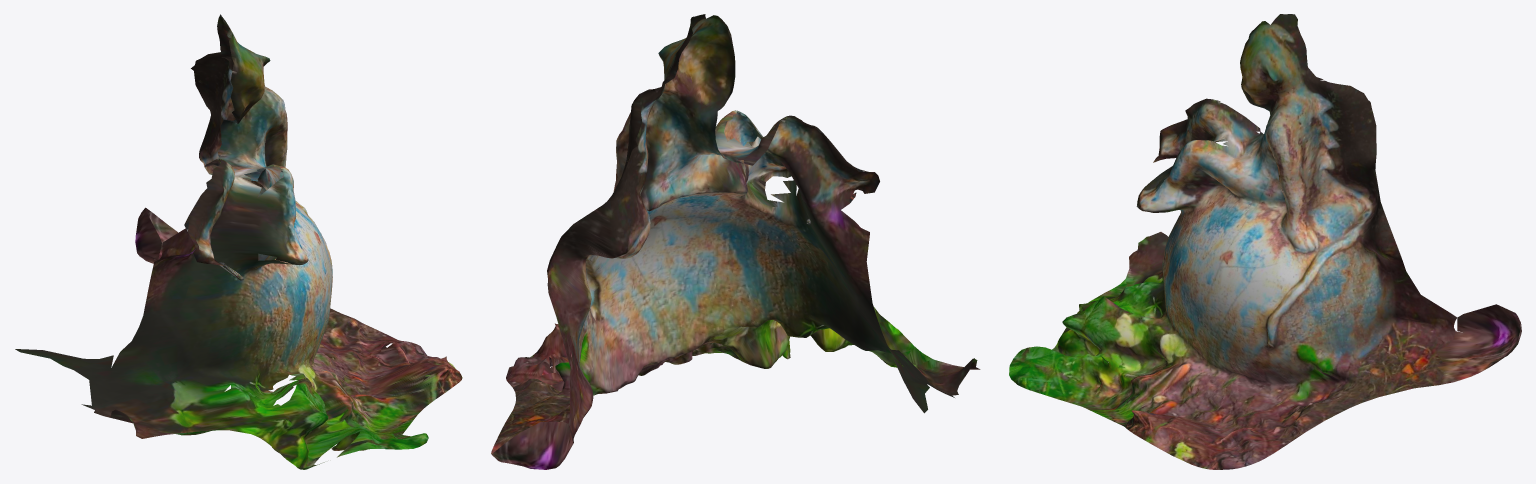
File: aardbolman.obj
The picture shows the model from 3 angles, left to right: view 1: azimuth 30°, elevation 25°; view 2: azimuth 150°, elevation 25°; view 3: azimuth 270°, elevation 25°; orthographic projection. The views are drawn at different scales.
Parts seen in each view (by area): view 1: aardbolman; view 2: aardbolman; view 3: aardbolman.
Boxes of the visible parts, <box> form: aardbolman: <box>15,14,462,469</box>; aardbolman: <box>491,14,980,469</box>; aardbolman: <box>1009,14,1521,469</box>.
Bounding box in the file's own units: 22.62 × 20.75 × 26.13.
Materials: 2 (2 with a texture image).
